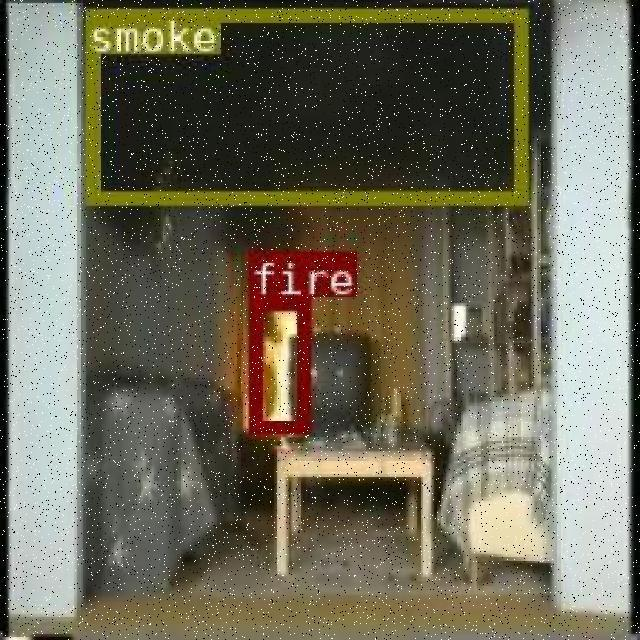Smoke: (84, 6, 524, 202)
